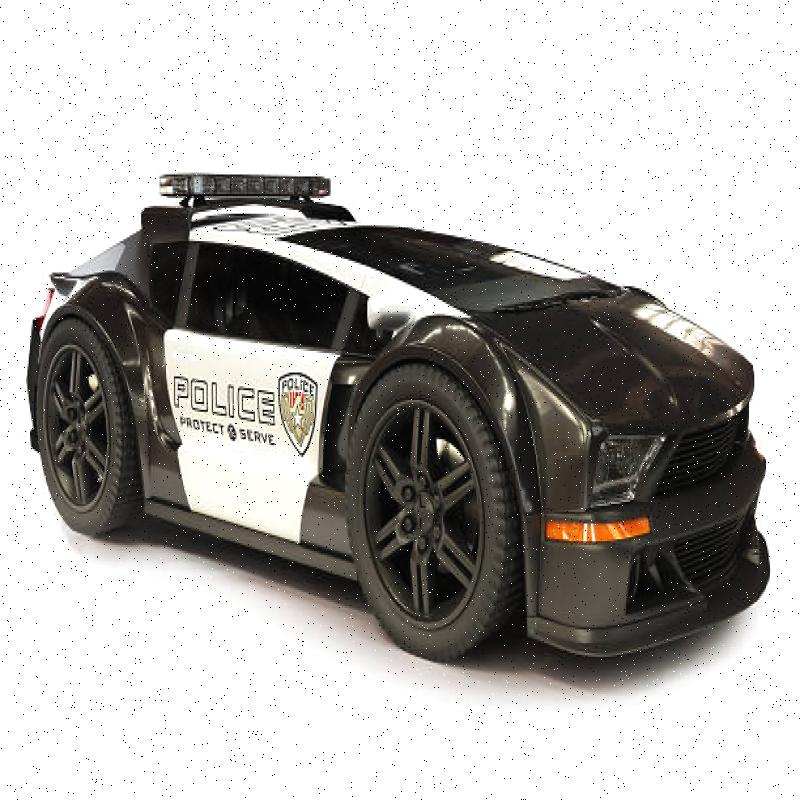AmbulanceSiren: (146, 134, 356, 245)
